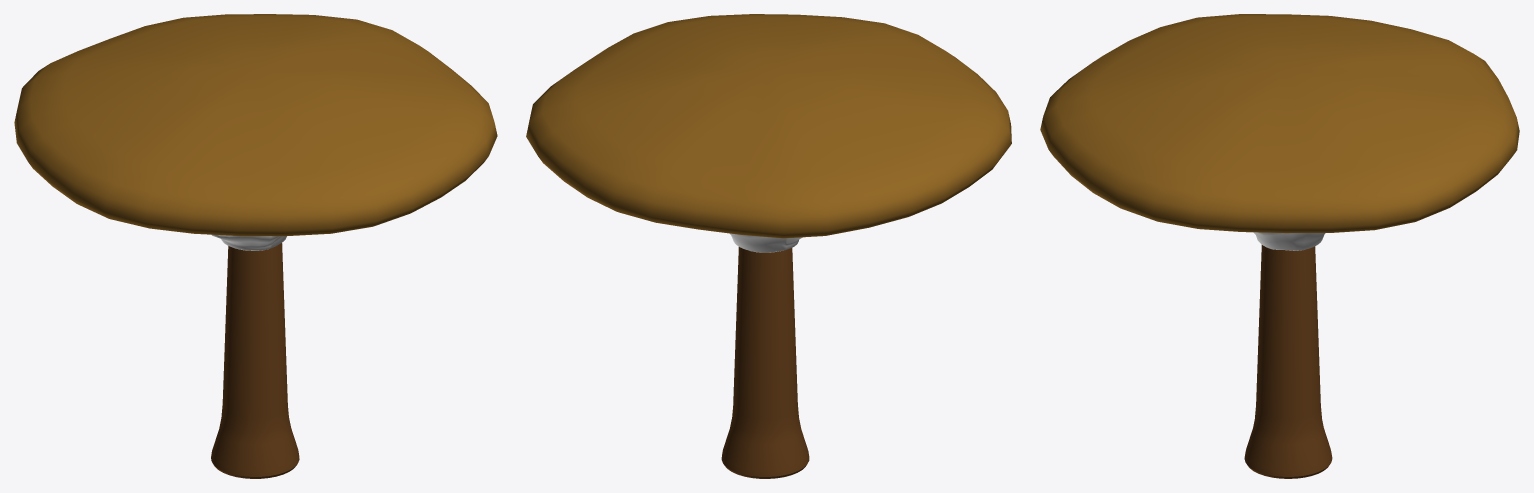
The model's file is Parasol.fbx.
3 renders of one model, left to right at view 1: azimuth 30°, elevation 25°; view 2: azimuth 150°, elevation 25°; view 3: azimuth 270°, elevation 25°, orthographic.
Parts seen in each view (by area): view 1: parte arriba, Cylinder, Sphere.001; view 2: parte arriba, Cylinder, Sphere.001; view 3: parte arriba, Cylinder, Sphere.001.
Part boxes in pixels (bbox=[...]): parte arriba: bbox=[14, 14, 497, 236]; Cylinder: bbox=[211, 243, 299, 478]; Sphere.001: bbox=[211, 234, 286, 250]; parte arriba: bbox=[526, 14, 1011, 238]; Cylinder: bbox=[721, 247, 809, 478]; Sphere.001: bbox=[729, 233, 802, 252]; parte arriba: bbox=[1040, 14, 1519, 233]; Cylinder: bbox=[1244, 245, 1332, 478]; Sphere.001: bbox=[1253, 232, 1325, 250].
Size of the model in its own units: 265 by 245 by 274.
